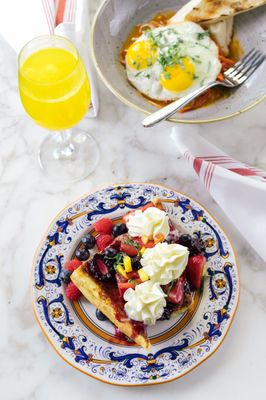burger: (142, 48, 265, 128)
